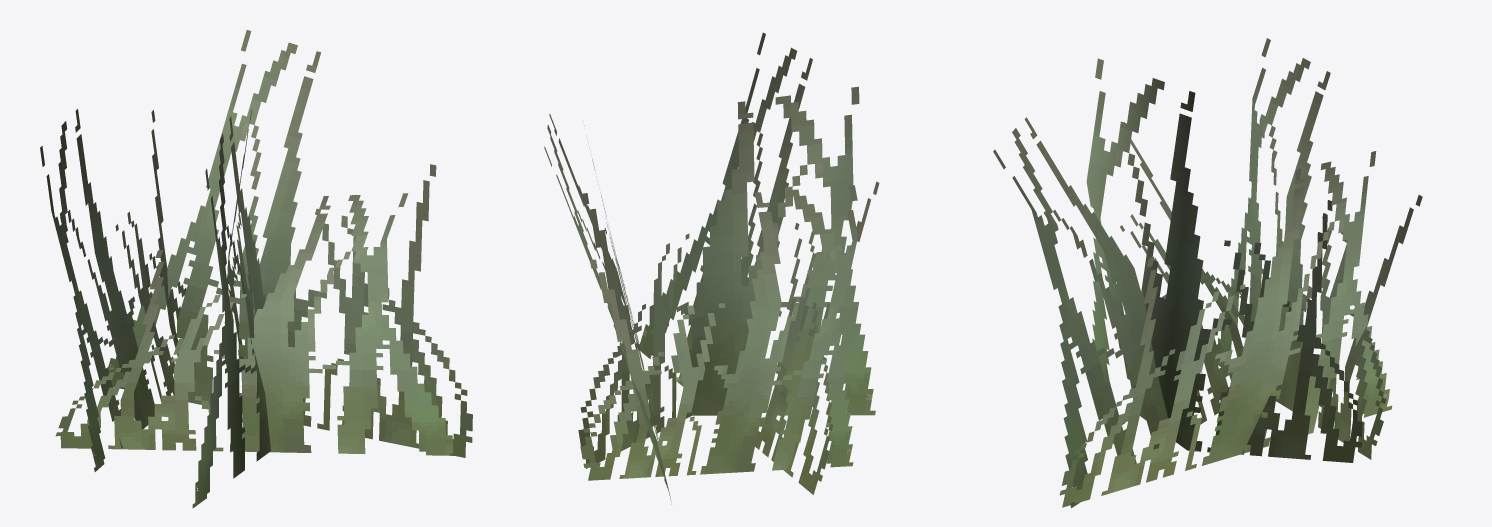
3 views of the same model, side by side, from view 1: azimuth 30°, elevation 25°; view 2: azimuth 150°, elevation 25°; view 3: azimuth 270°, elevation 25° (orthographic).
Visible parts, largest first — view 1: grass_grass_high_a-0-01 - Default; view 2: grass_grass_high_a-0-01 - Default; view 3: grass_grass_high_a-0-01 - Default.
Part boxes in pixels (<box>): grass_grass_high_a-0-01 - Default: <box>40,30,472,508</box>; grass_grass_high_a-0-01 - Default: <box>544,32,879,504</box>; grass_grass_high_a-0-01 - Default: <box>993,38,1422,507</box>.
Size of the model in its own units: 2.54 by 1.95 by 2.64.
Materials: 1 (1 with a texture image).
